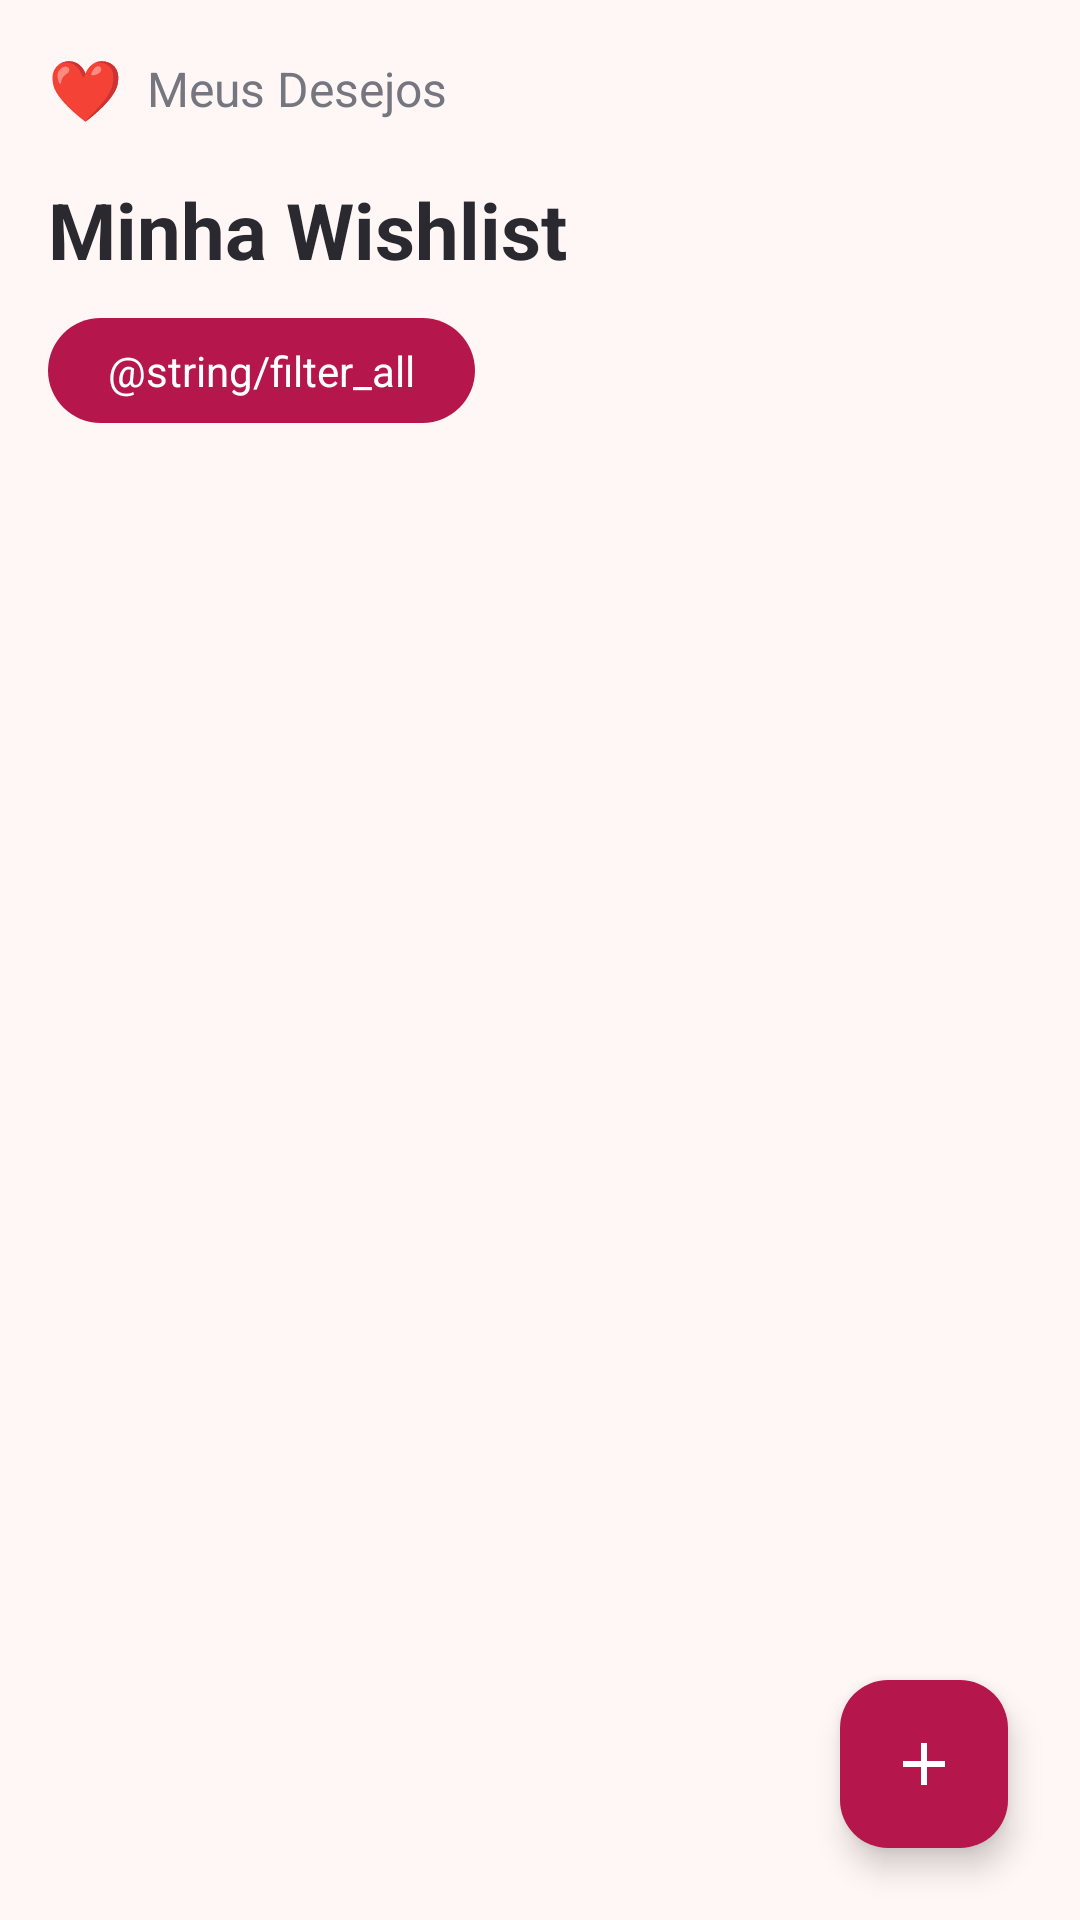

Icon bounding boxes for this 1080w x 1920h phone screenshot, format (left=x1, top=y1, right=x2, bottom=y2):
Adicionar item: (left=840, top=1680, right=1008, bottom=1848)
